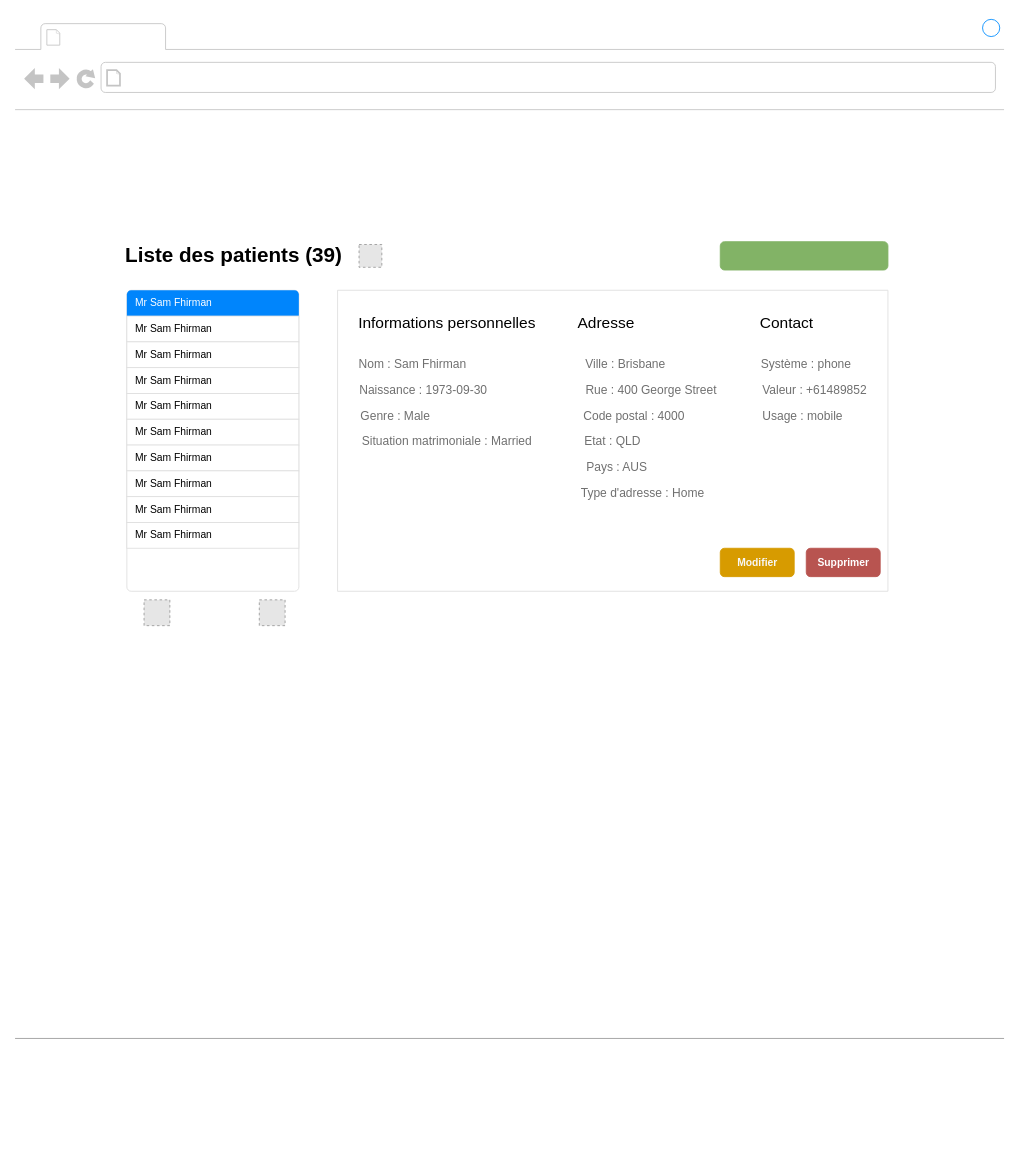
This 1019x1174 diagram has some shape labels left out. Grey dashed boxes stand in for pictures. The centre of each missing label's shape, as x and y in pixels:
"Créer un patient" belongs at (x=803, y=255).
"https://www.example.com" belongs at (x=234, y=77).
"Page 1" belongs at (x=113, y=36).
